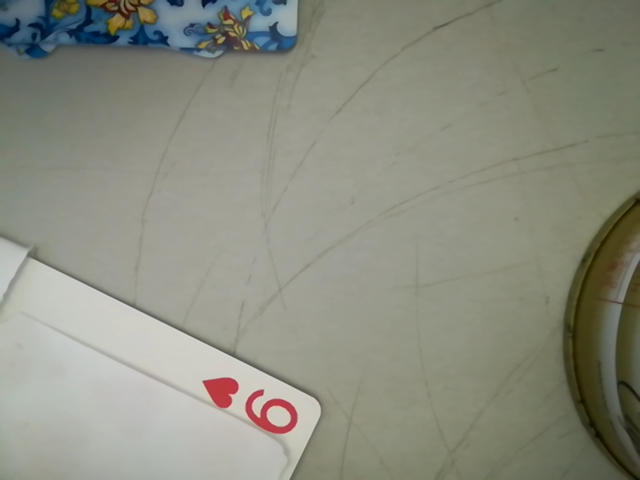hx 9: (201, 371, 309, 438)
